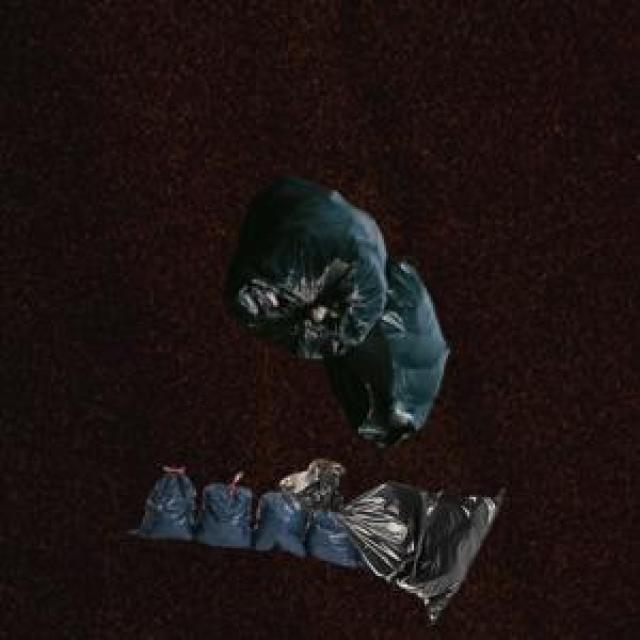waste: (229, 179, 449, 446), (257, 460, 498, 611), (139, 469, 249, 547)
